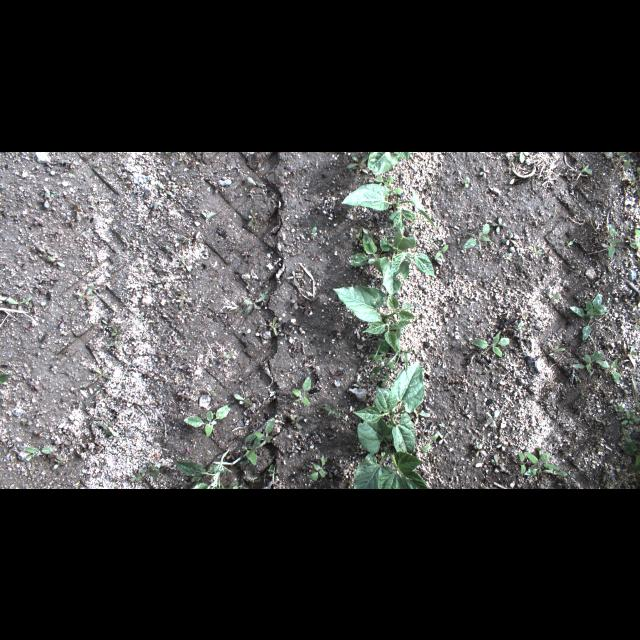crop: (352, 361, 424, 454), (333, 284, 415, 356), (354, 414, 428, 488), (342, 183, 436, 227), (380, 223, 436, 294), (368, 152, 410, 174)
weed: (174, 450, 232, 488), (570, 293, 608, 341), (349, 235, 393, 273), (184, 404, 228, 438), (369, 338, 395, 379), (470, 332, 510, 356), (524, 449, 560, 475), (570, 349, 604, 371), (386, 348, 410, 379), (236, 434, 260, 464), (462, 223, 492, 247), (242, 292, 270, 316), (596, 358, 620, 384), (292, 377, 310, 408), (253, 418, 275, 442), (22, 446, 58, 460), (606, 222, 620, 258), (418, 431, 439, 453), (309, 456, 325, 480), (433, 242, 449, 262), (78, 285, 95, 303), (373, 170, 392, 186), (492, 454, 508, 472), (621, 409, 639, 425), (348, 152, 368, 166), (9, 296, 31, 308), (103, 421, 119, 437), (383, 184, 403, 196), (94, 412, 110, 426), (618, 152, 630, 170), (46, 256, 66, 266), (270, 316, 280, 336), (629, 228, 639, 248), (290, 414, 304, 428), (492, 217, 506, 231), (96, 366, 112, 378), (132, 467, 144, 483), (502, 232, 518, 244), (518, 451, 526, 475), (412, 407, 430, 417), (180, 257, 192, 271), (144, 466, 158, 478), (290, 294, 302, 308), (325, 406, 339, 418), (486, 410, 500, 422), (550, 468, 568, 477), (541, 294, 561, 302), (623, 441, 639, 451), (622, 427, 632, 443), (634, 167, 640, 193), (112, 323, 120, 341), (248, 208, 256, 226), (548, 346, 566, 354), (630, 344, 636, 368), (354, 379, 364, 393), (578, 162, 592, 172), (49, 454, 66, 462), (43, 188, 49, 208), (234, 393, 246, 403), (379, 374, 389, 386), (475, 444, 485, 456), (178, 290, 185, 306), (438, 432, 448, 443), (0, 373, 12, 382), (352, 227, 362, 237), (519, 152, 529, 162), (628, 174, 638, 184), (462, 175, 470, 187), (479, 166, 488, 176), (533, 244, 543, 253), (634, 452, 638, 472), (568, 237, 576, 246), (616, 404, 624, 412), (518, 320, 524, 328), (312, 226, 316, 237)
